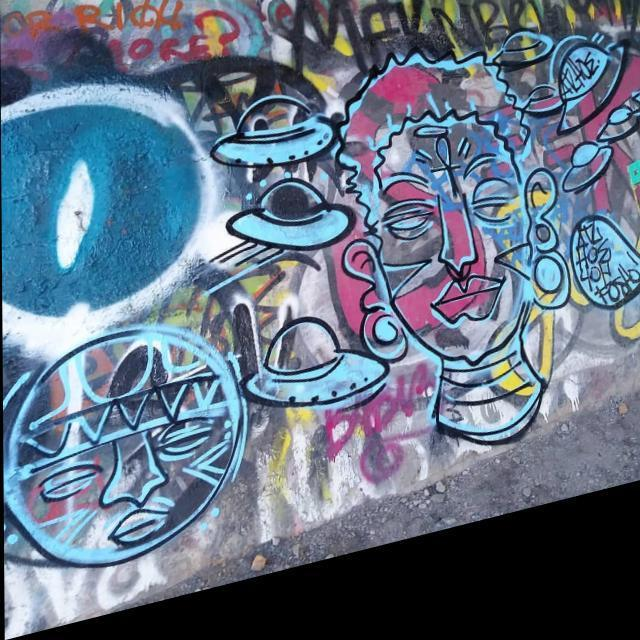-: (334, 38, 574, 510), (7, 306, 244, 598), (235, 314, 392, 451), (206, 88, 335, 204), (222, 178, 356, 284), (550, 52, 634, 172)
